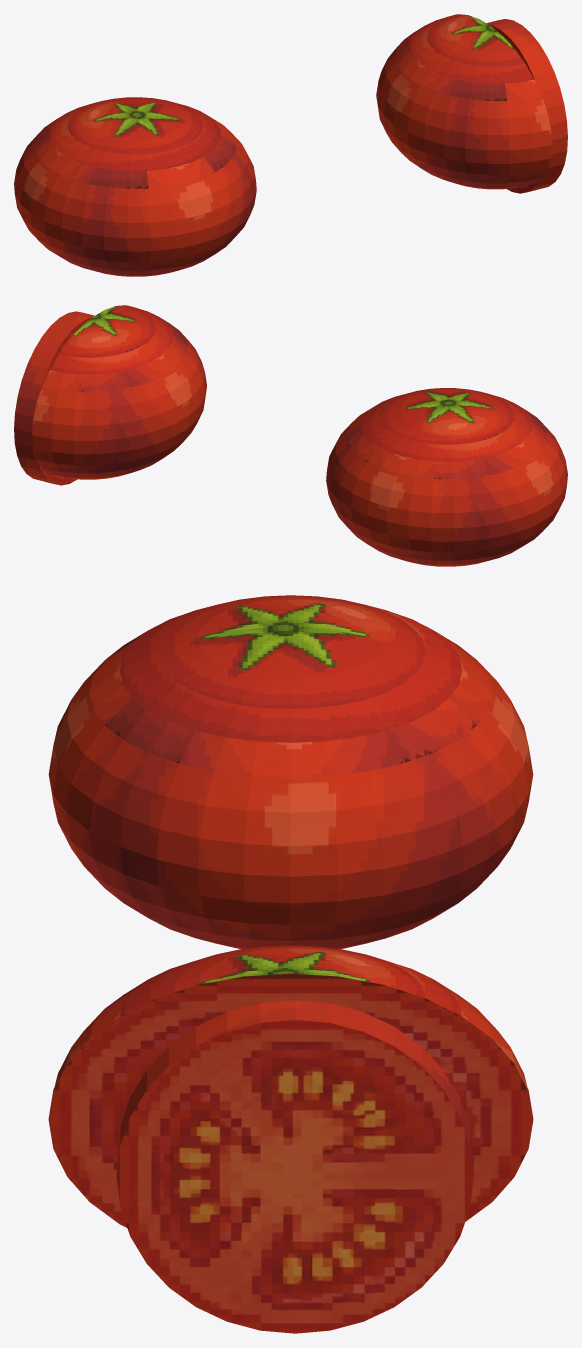
The model's file is salet.fbx.
The picture shows the model from 3 angles, top to bottom: view 1: azimuth 30°, elevation 25°; view 2: azimuth 150°, elevation 25°; view 3: azimuth 270°, elevation 25°; orthographic projection. The views are drawn at different scales.
Parts seen in each view (by area): view 1: Sphere, Sphere.001, Cylinder; view 2: Sphere, Sphere.001, Cylinder; view 3: Sphere, Cylinder, Sphere.001.
Part boxes in pixels (x1,y1,x2,y2): Sphere: (14,97,256,276); Sphere.001: (376,14,552,189); Cylinder: (486,19,567,193); Sphere: (326,388,567,566); Sphere.001: (31,305,206,479); Cylinder: (14,311,94,485); Sphere: (48,595,533,949); Cylinder: (116,1000,473,1333); Sphere.001: (48,945,533,1227).
Bounding box in the file's own units: 114 × 36.25 × 48.56.
Materials: 1 (1 with a texture image).
